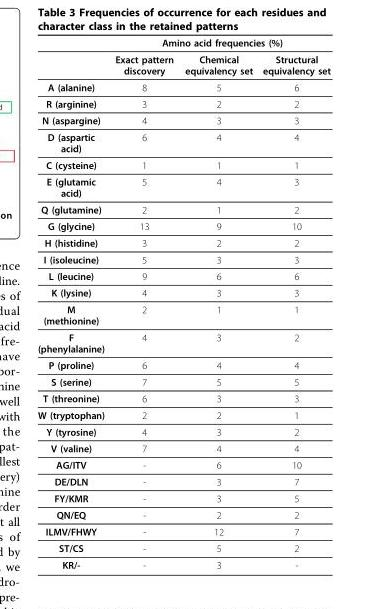table: (36, 36, 329, 570)
table column: (178, 36, 257, 570), (36, 36, 109, 570), (257, 36, 329, 570), (109, 36, 178, 570)
table column header: (36, 36, 329, 78)
table row: (36, 50, 329, 78), (36, 128, 329, 156), (36, 300, 329, 328), (36, 328, 329, 356), (36, 173, 329, 200), (36, 78, 329, 95), (36, 111, 329, 128), (36, 156, 329, 173), (36, 200, 329, 217), (36, 217, 329, 234), (36, 250, 329, 267), (36, 267, 329, 284), (36, 356, 329, 373), (36, 389, 329, 406), (36, 406, 329, 423), (36, 439, 329, 456), (36, 472, 329, 489), (36, 489, 329, 506), (36, 522, 329, 539), (36, 539, 329, 556), (36, 95, 329, 111), (36, 234, 329, 250), (36, 284, 329, 300), (36, 373, 329, 389), (36, 423, 329, 439), (36, 456, 329, 472), (36, 506, 329, 522), (36, 36, 329, 50), (36, 556, 329, 570)
table spanning cell: (109, 36, 329, 50)
